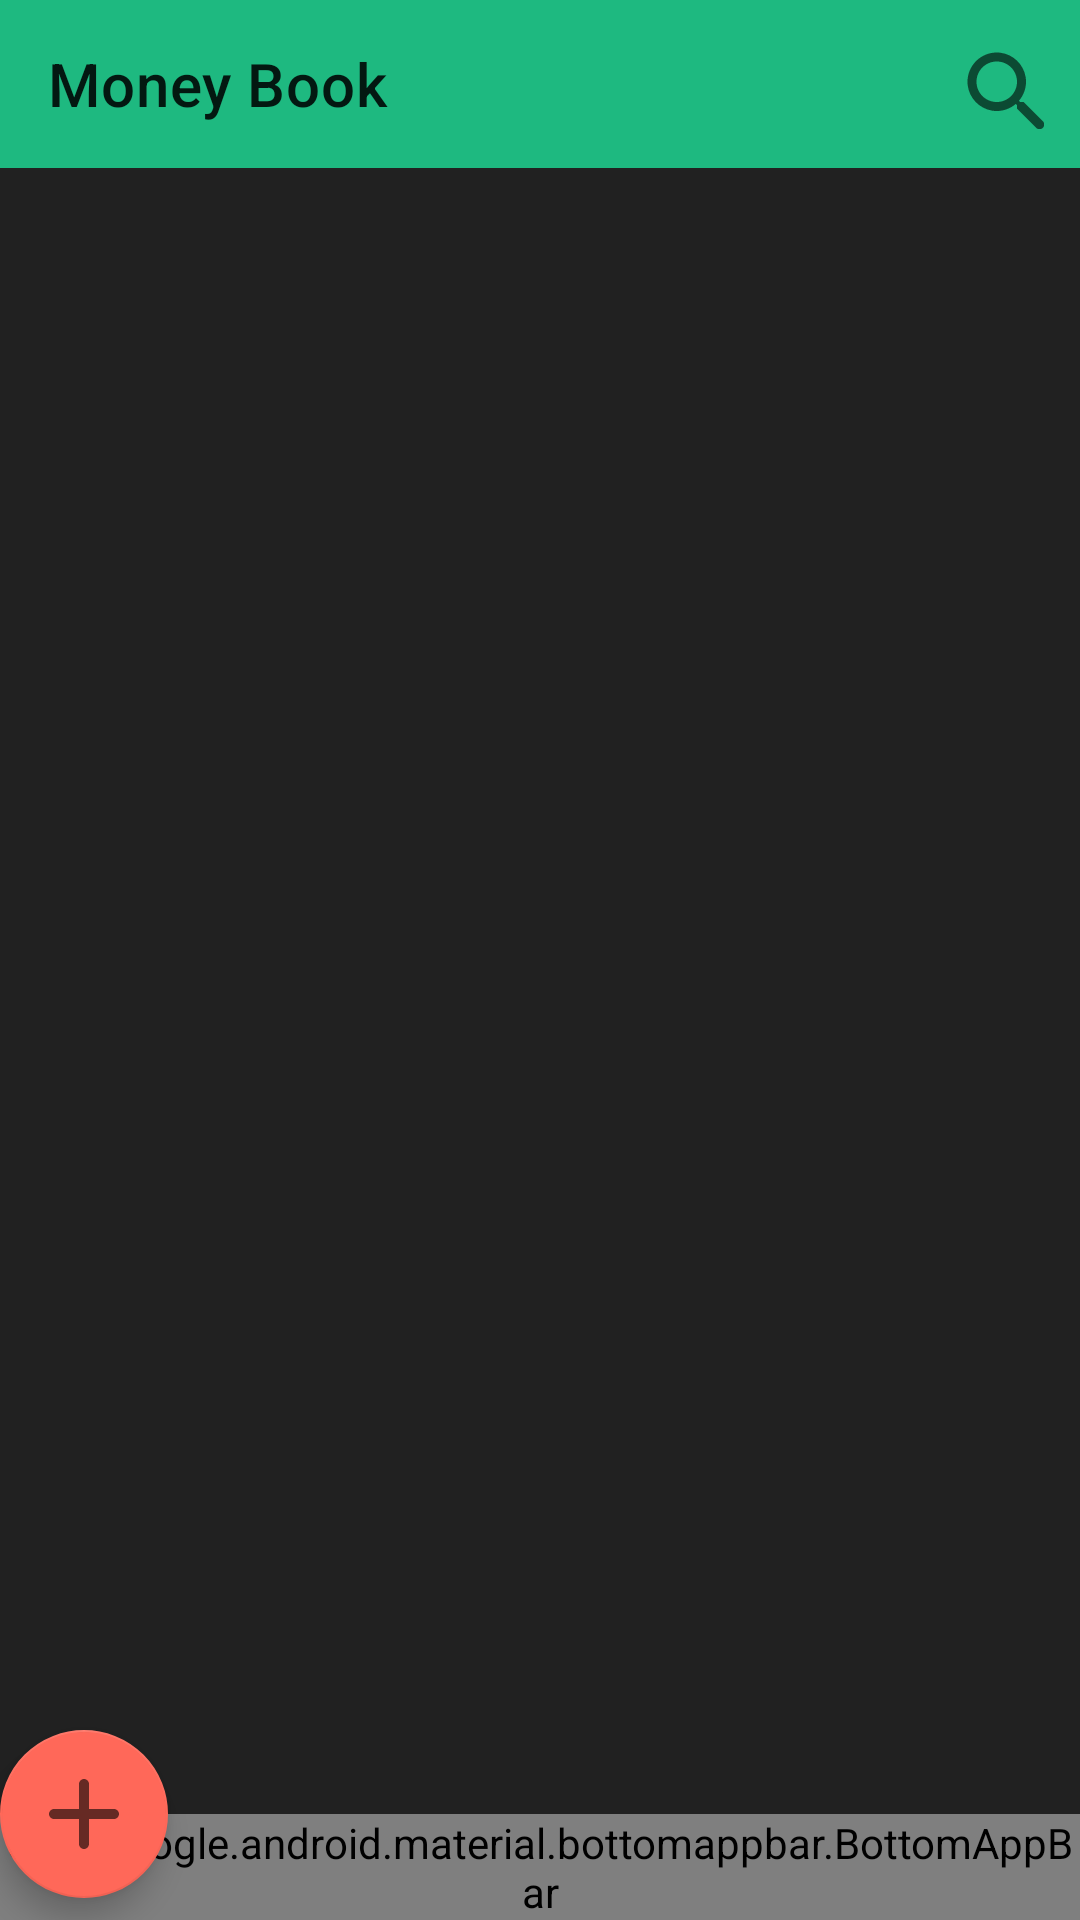

Where to tap for icons on this 1080w x 1920h app screen, as (x,y):
add round: (84,1814)
